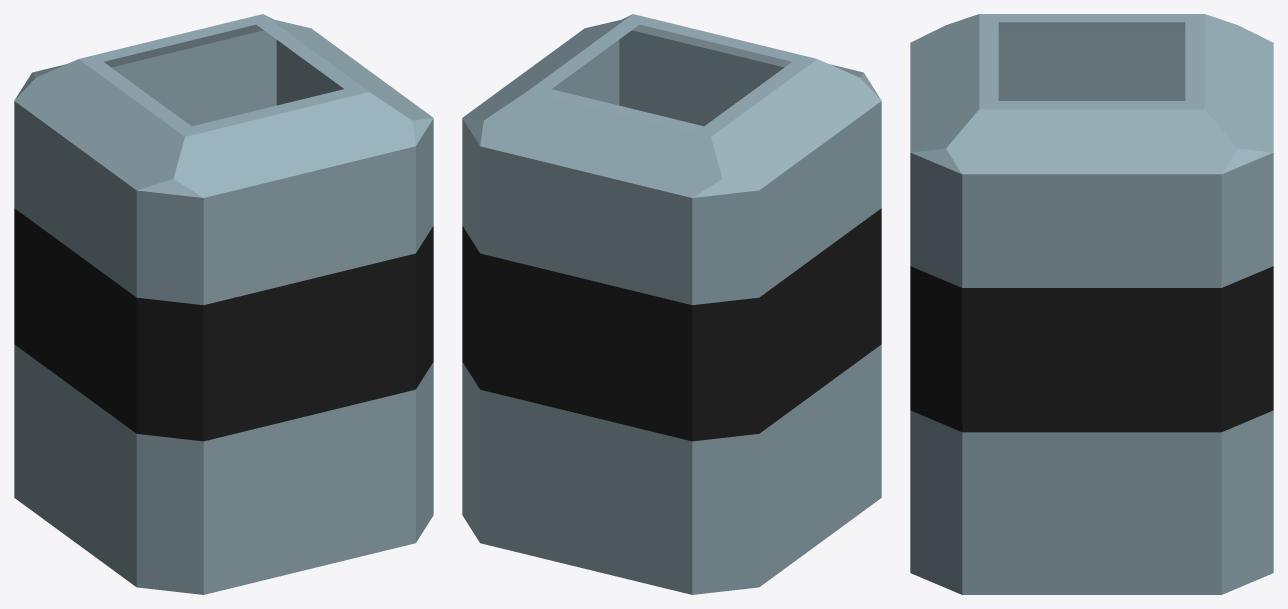
Rendered from trash-bin.fbx.
3 views of the same model, side by side, from view 1: azimuth 30°, elevation 25°; view 2: azimuth 150°, elevation 25°; view 3: azimuth 270°, elevation 25° (orthographic). The views are drawn at different scales.
Visible parts, largest first — view 1: Trash; view 2: Trash; view 3: Trash.
Boxes of the visible parts, box(x1,y1,x2,y2) form: Trash: box(14, 14, 433, 594); Trash: box(462, 14, 881, 594); Trash: box(910, 14, 1273, 594).
Size of the model in its own units: 297 by 412 by 297.
